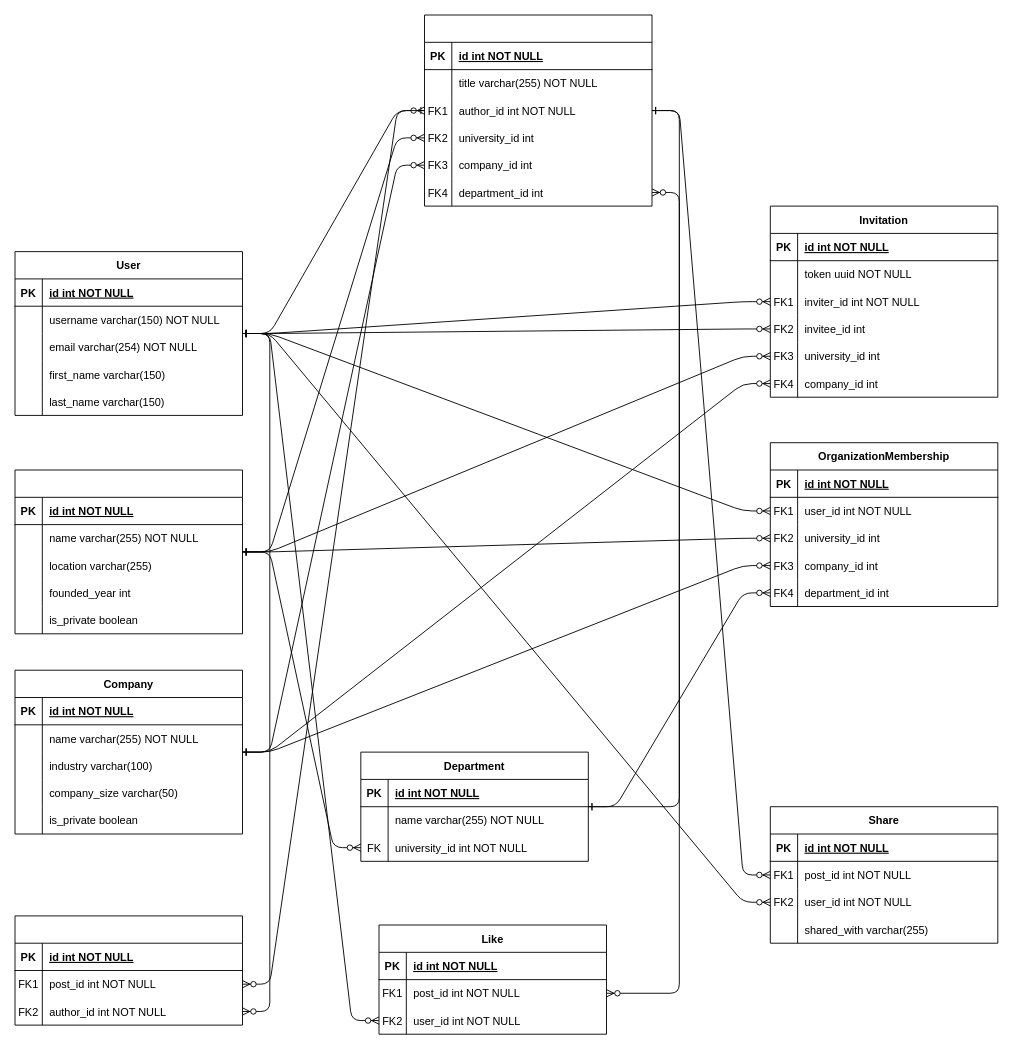
The diagram is 1013 pixels wide and 1049 high, and some of its shapes have lost their labels. Each missing label, with the box of its shape:
Comment: (14, 915, 243, 1025)
Post: (424, 14, 652, 206)
University: (14, 469, 243, 634)
